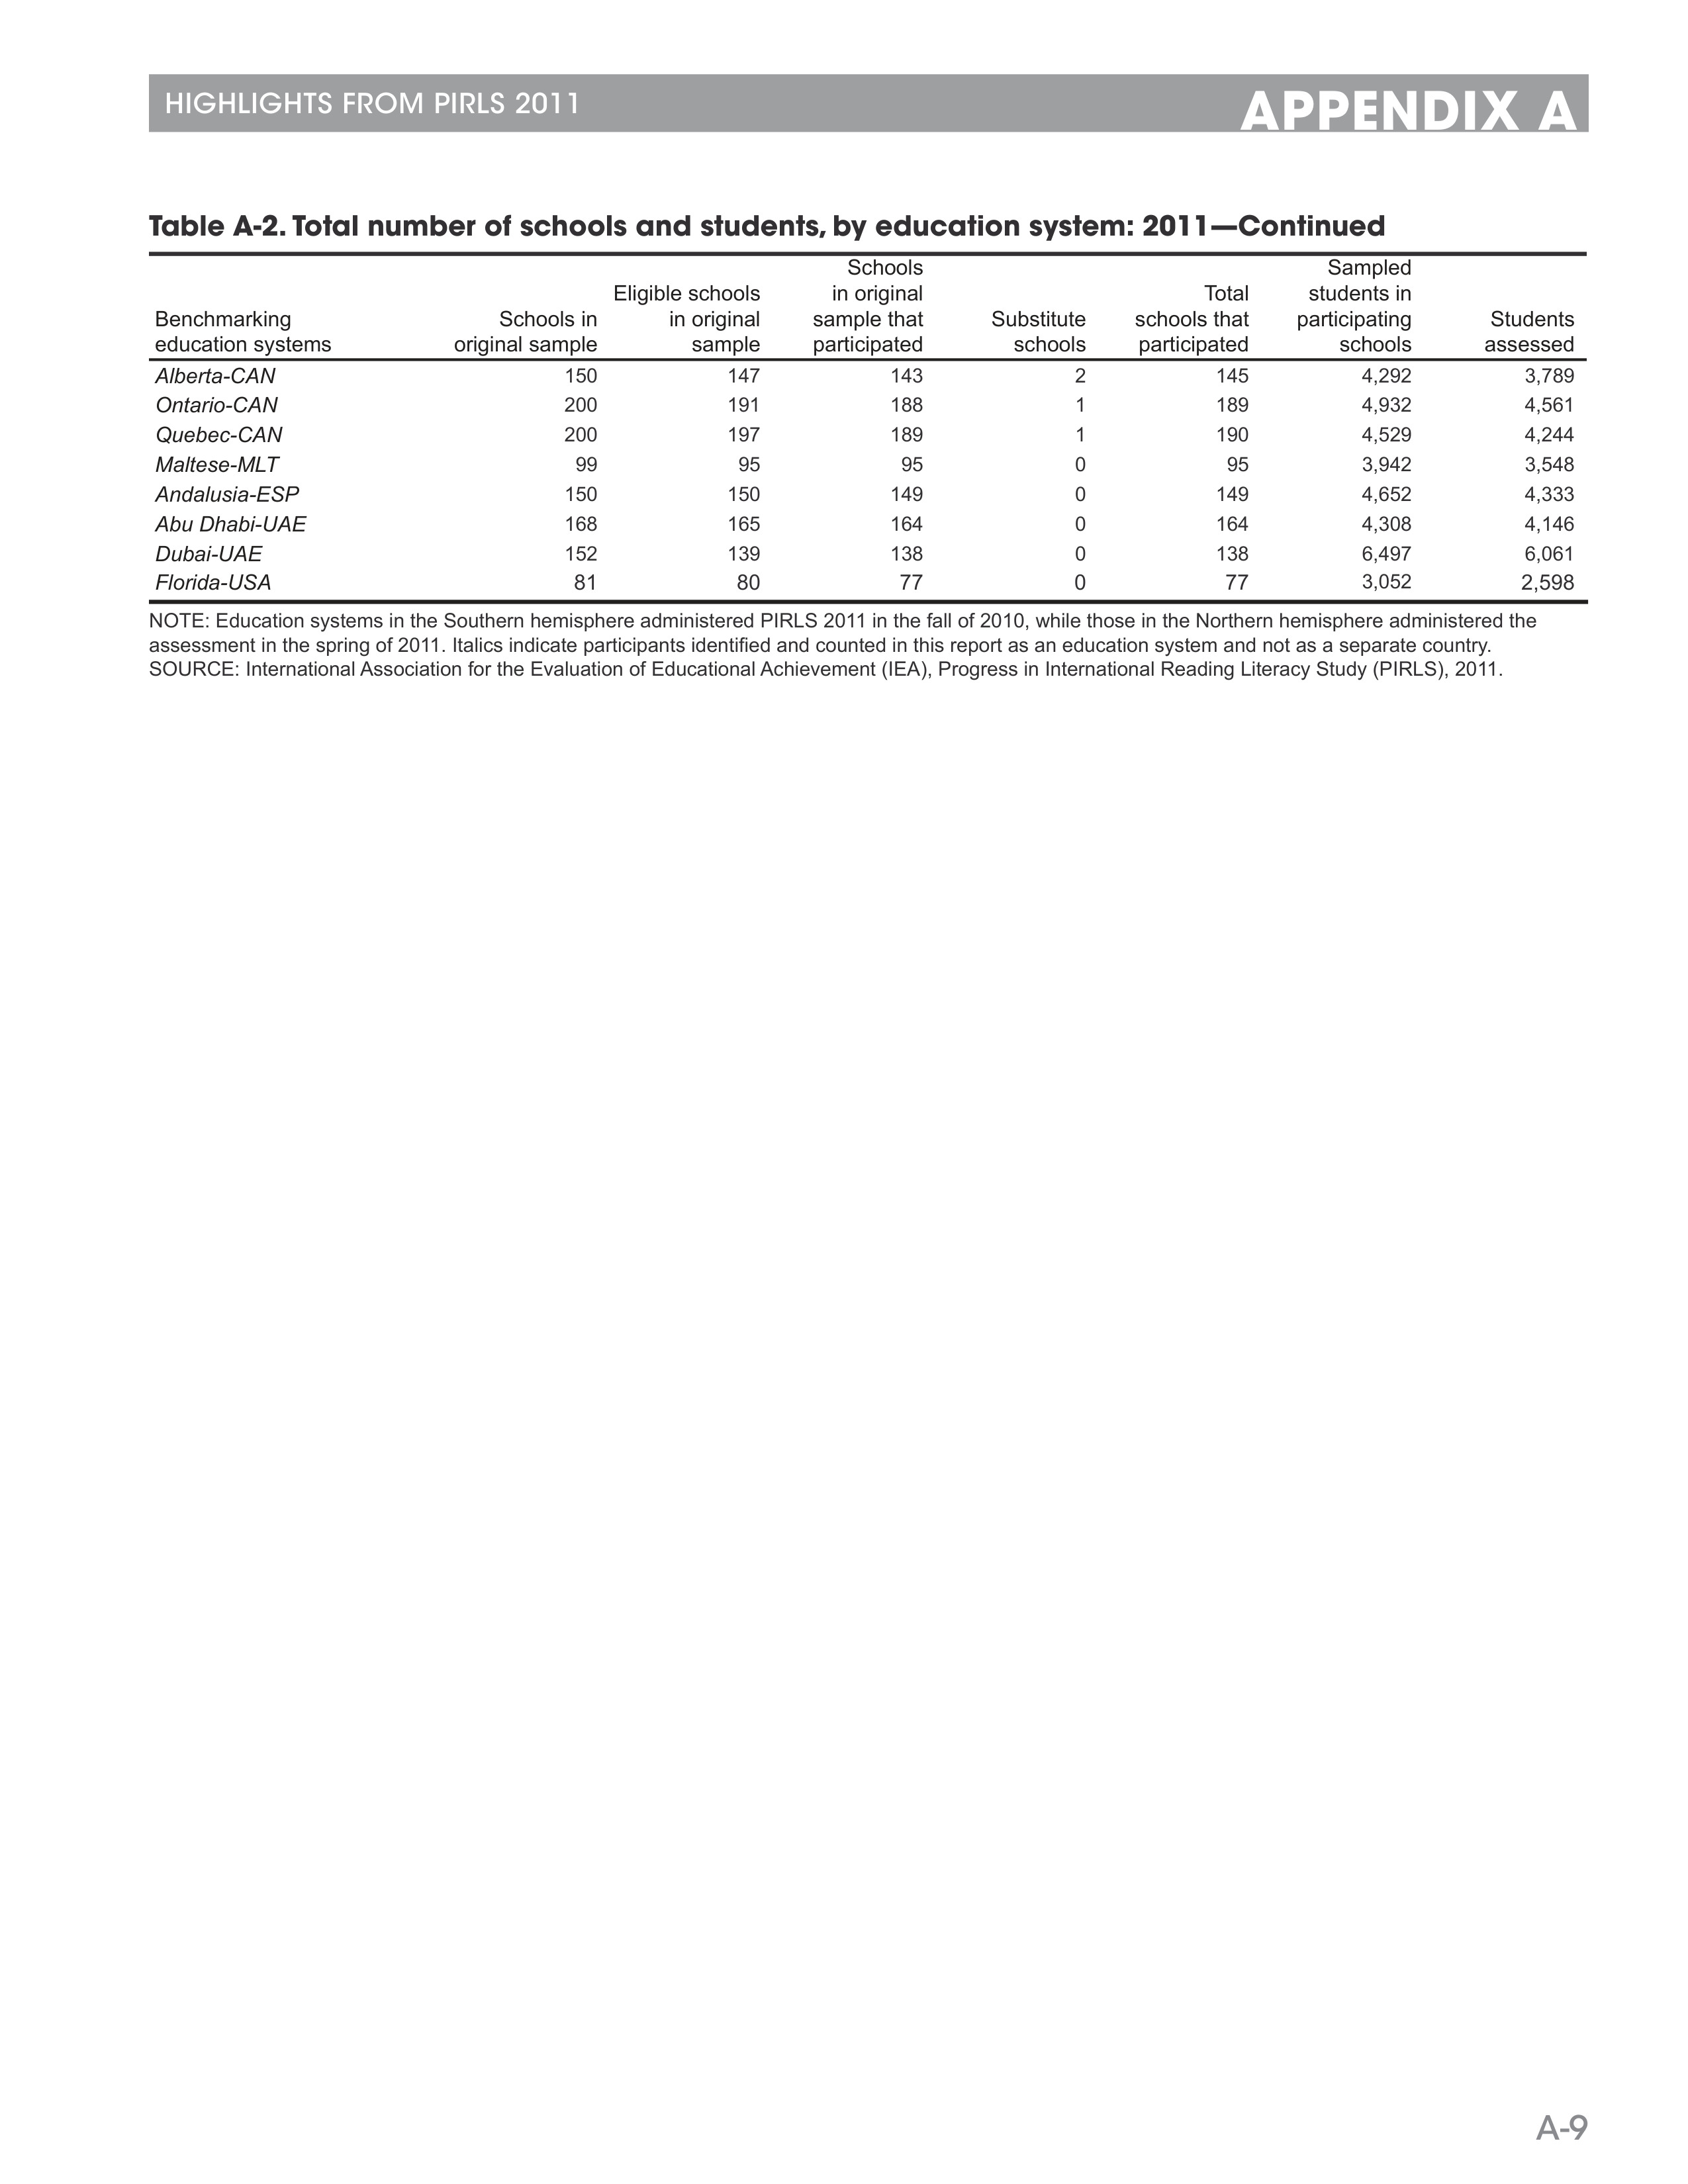table: (154, 255, 1575, 594)
